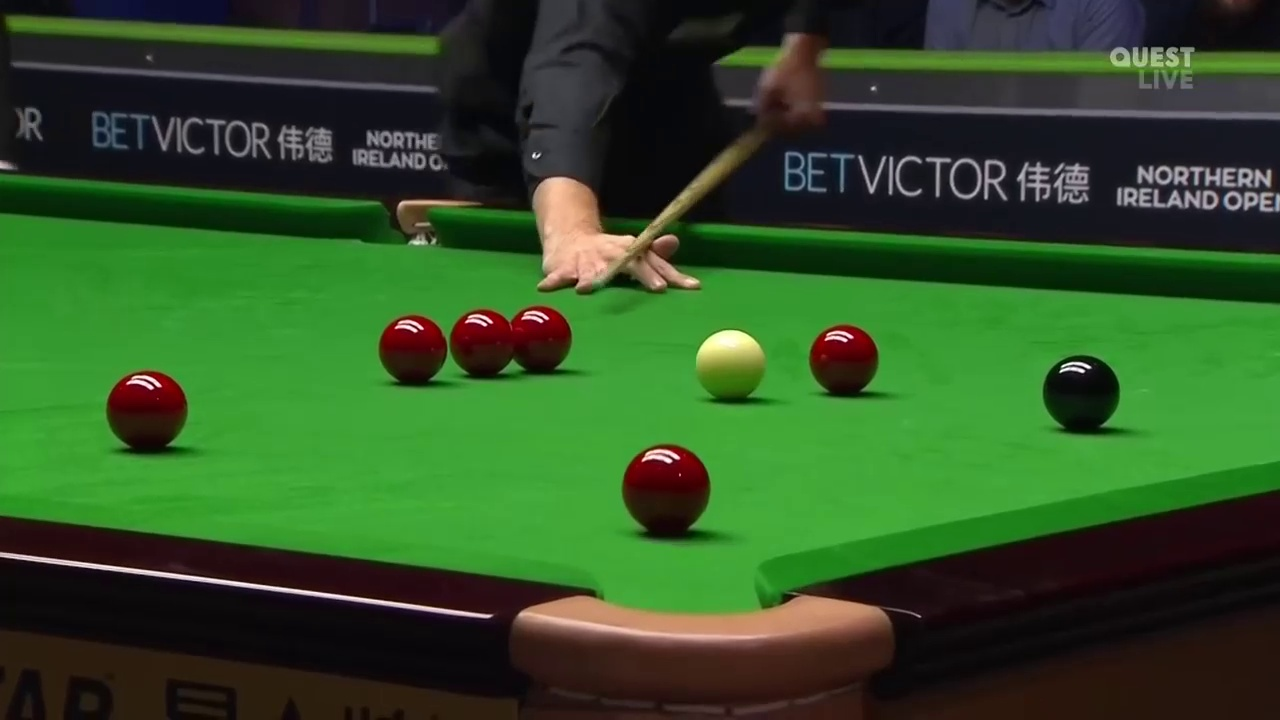black: (1045, 351, 1118, 430)
red: (623, 445, 710, 532), (107, 372, 185, 447), (809, 324, 879, 393), (377, 313, 445, 380), (514, 305, 572, 373), (453, 310, 513, 375)
white: (694, 327, 765, 399)
